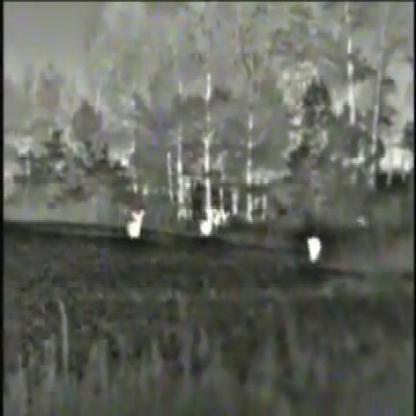rehkitze: (123, 205, 145, 244), (198, 209, 216, 241), (306, 236, 325, 265)
